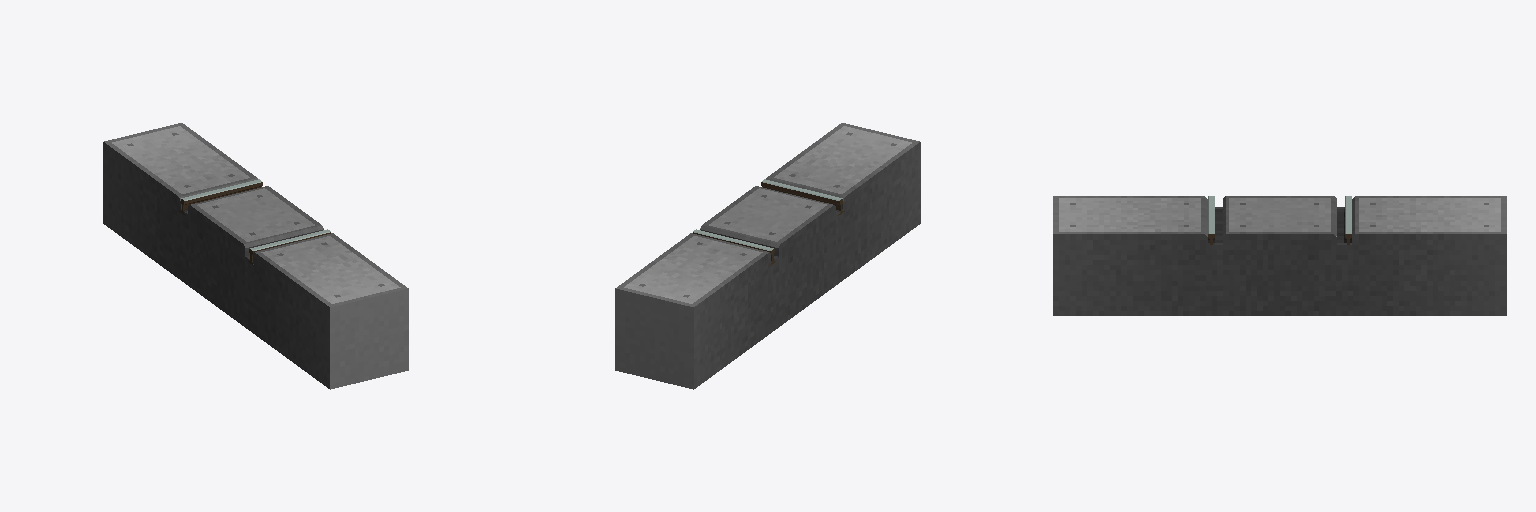
3 renders of one model, left to right at view 1: azimuth 30°, elevation 25°; view 2: azimuth 150°, elevation 25°; view 3: azimuth 270°, elevation 25°, orthographic.
Visible parts, largest first — view 1: RAIL_BASE_Cube.001, RAIL_RIGHT_Cube.003; view 2: RAIL_BASE_Cube.001, RAIL_LEFT_Cube.004; view 3: RAIL_BASE_Cube.001.
Boxes of the visible parts, x1=… form: RAIL_BASE_Cube.001: x1=103, y1=123, x2=408, y2=389; RAIL_RIGHT_Cube.003: x1=179, y1=179, x2=262, y2=215; RAIL_BASE_Cube.001: x1=615, y1=123, x2=920, y2=389; RAIL_LEFT_Cube.004: x1=761, y1=179, x2=844, y2=215; RAIL_BASE_Cube.001: x1=1053, y1=196, x2=1506, y2=315.
Bounding box in the file's own units: 1 × 1 × 5.
Materials: 1 (1 with a texture image).